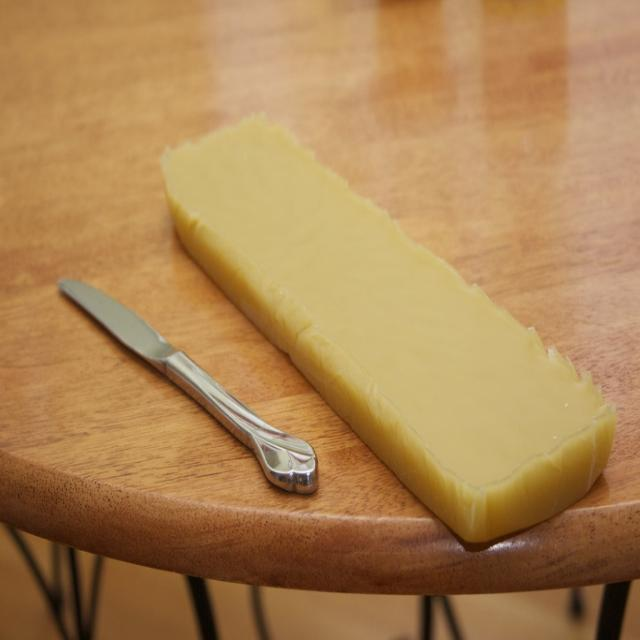Cheese: (158, 106, 618, 549)
